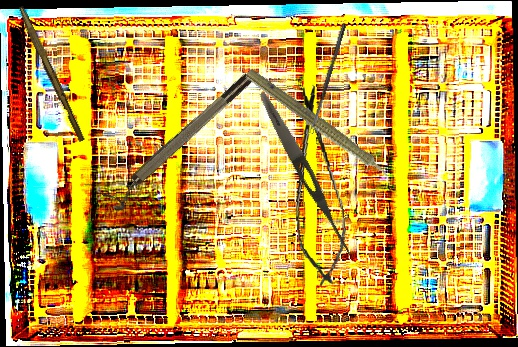Dressing Forceps: (254, 89, 359, 259)
Fixation Ring: (101, 70, 261, 214)
Handpiece: (240, 65, 403, 192)
Micro Scissor: (282, 81, 352, 291)
Scalpel Handle: (14, 5, 88, 143)
Surgical Spoon: (308, 22, 347, 135)
